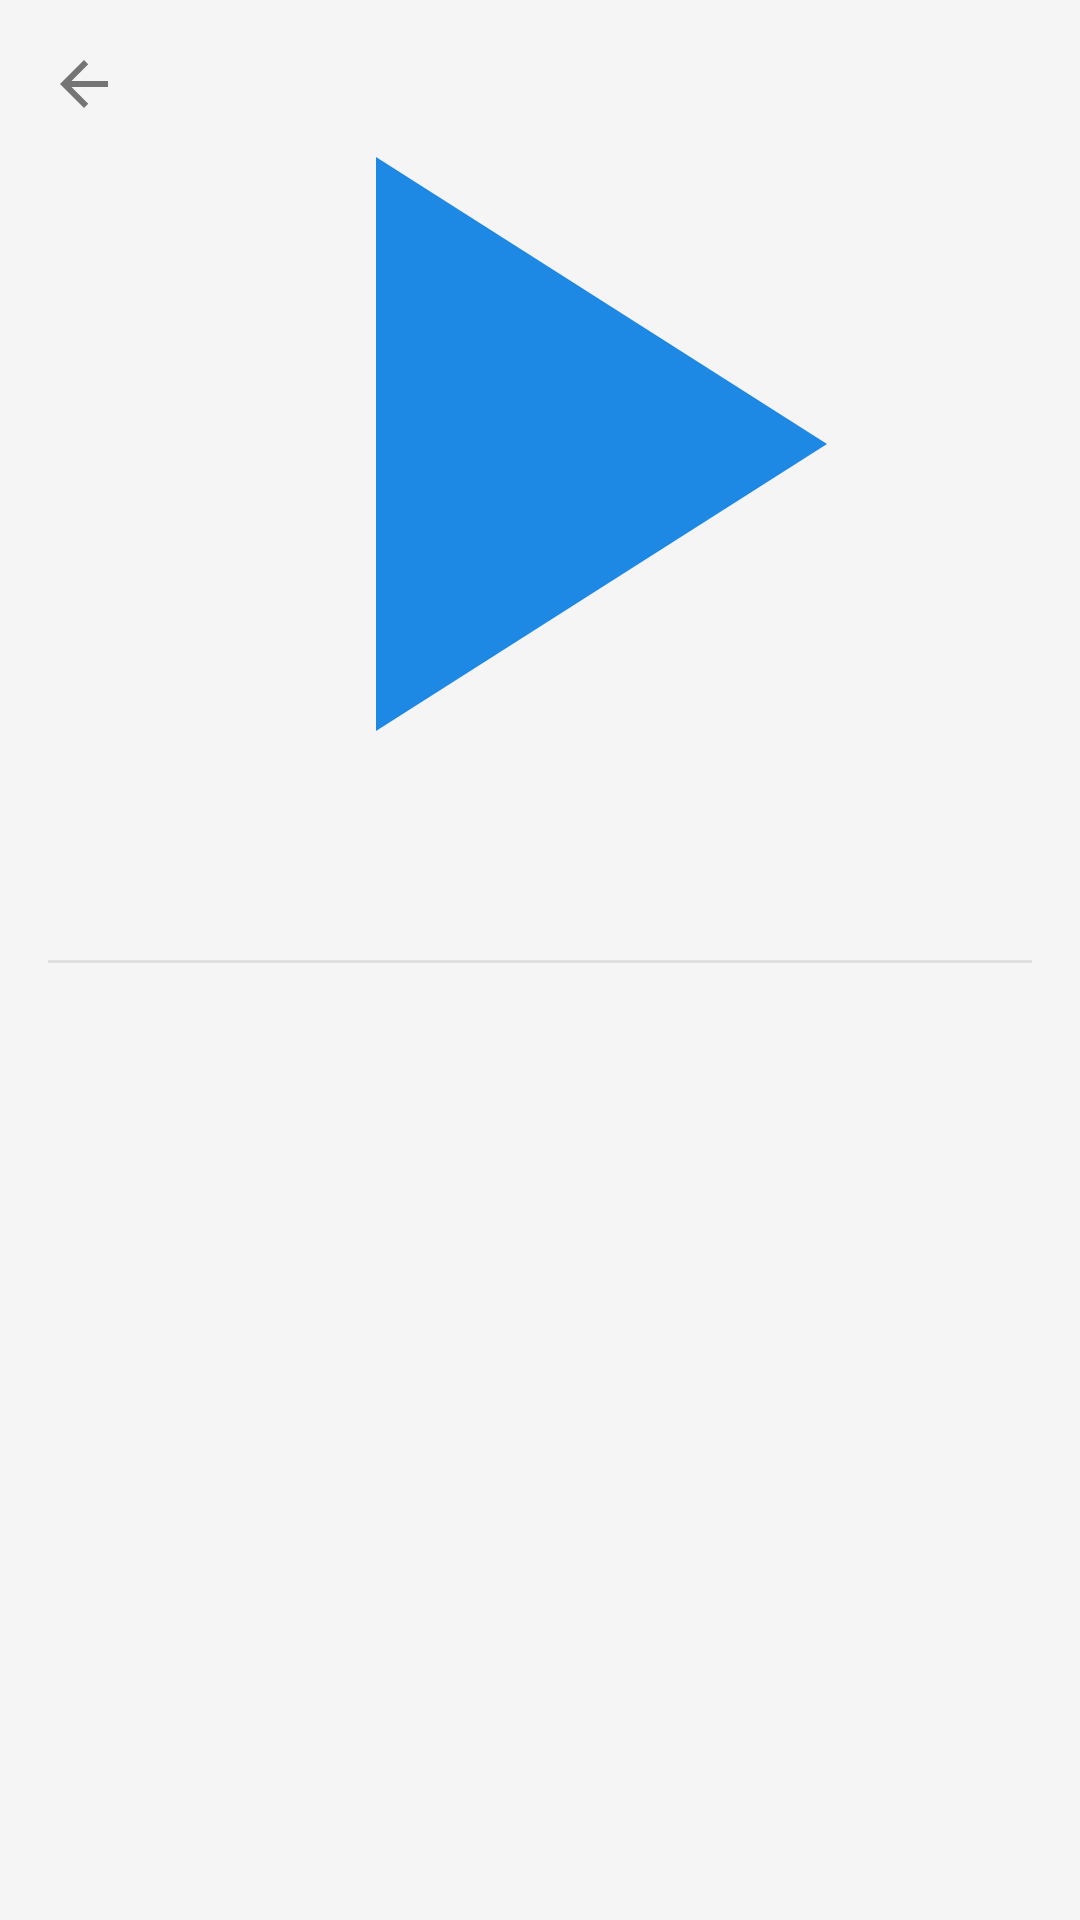

Where to tap for icons on this 1080×1920 app screen, as [x,y]:
العودة: [84,84]
